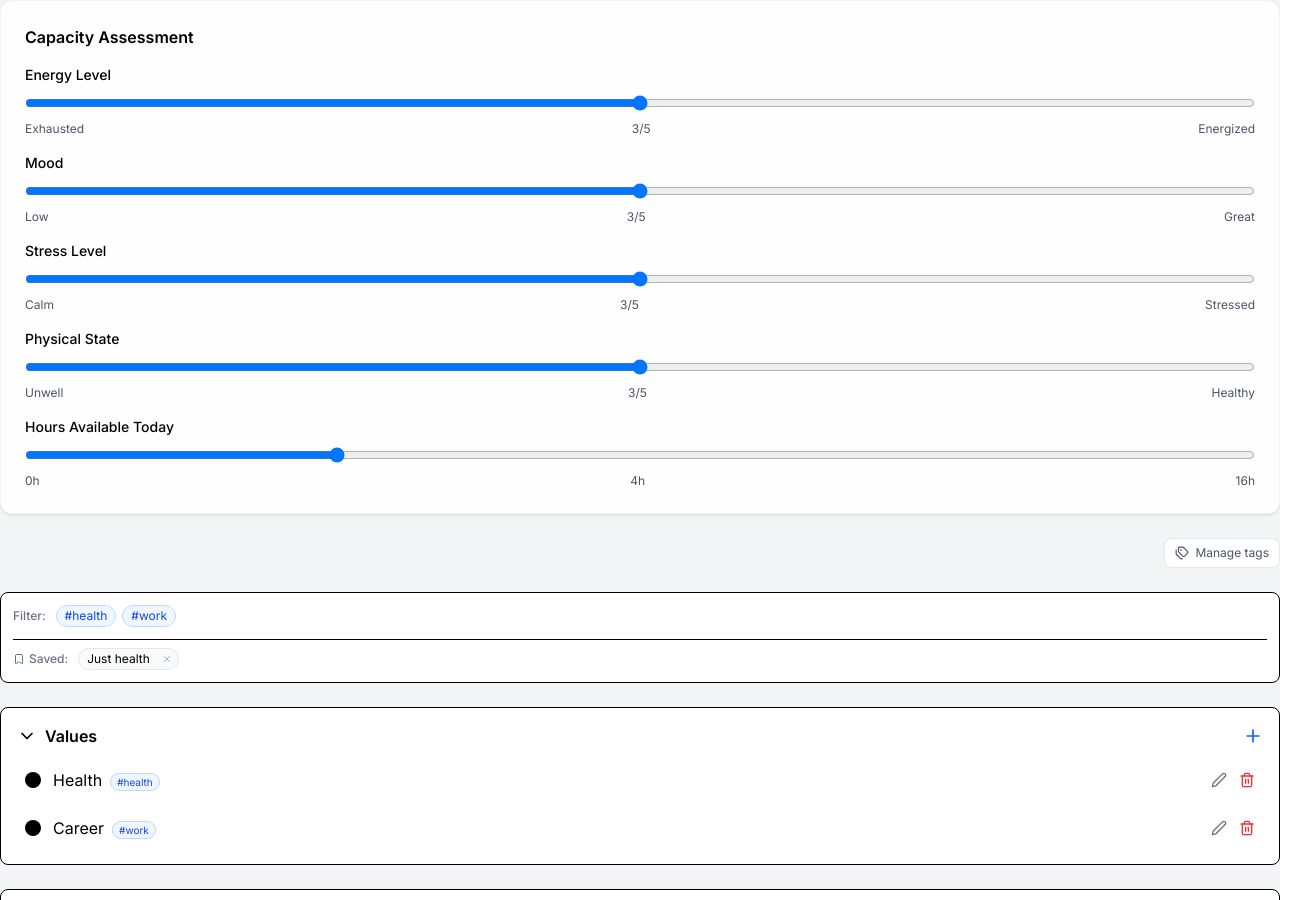
Test case: PlannerDataView tag filtering integration › applies a saved filter when its chip is clicked
Click the button "Just health".
click(118, 659)  # box [79,649,158,669]
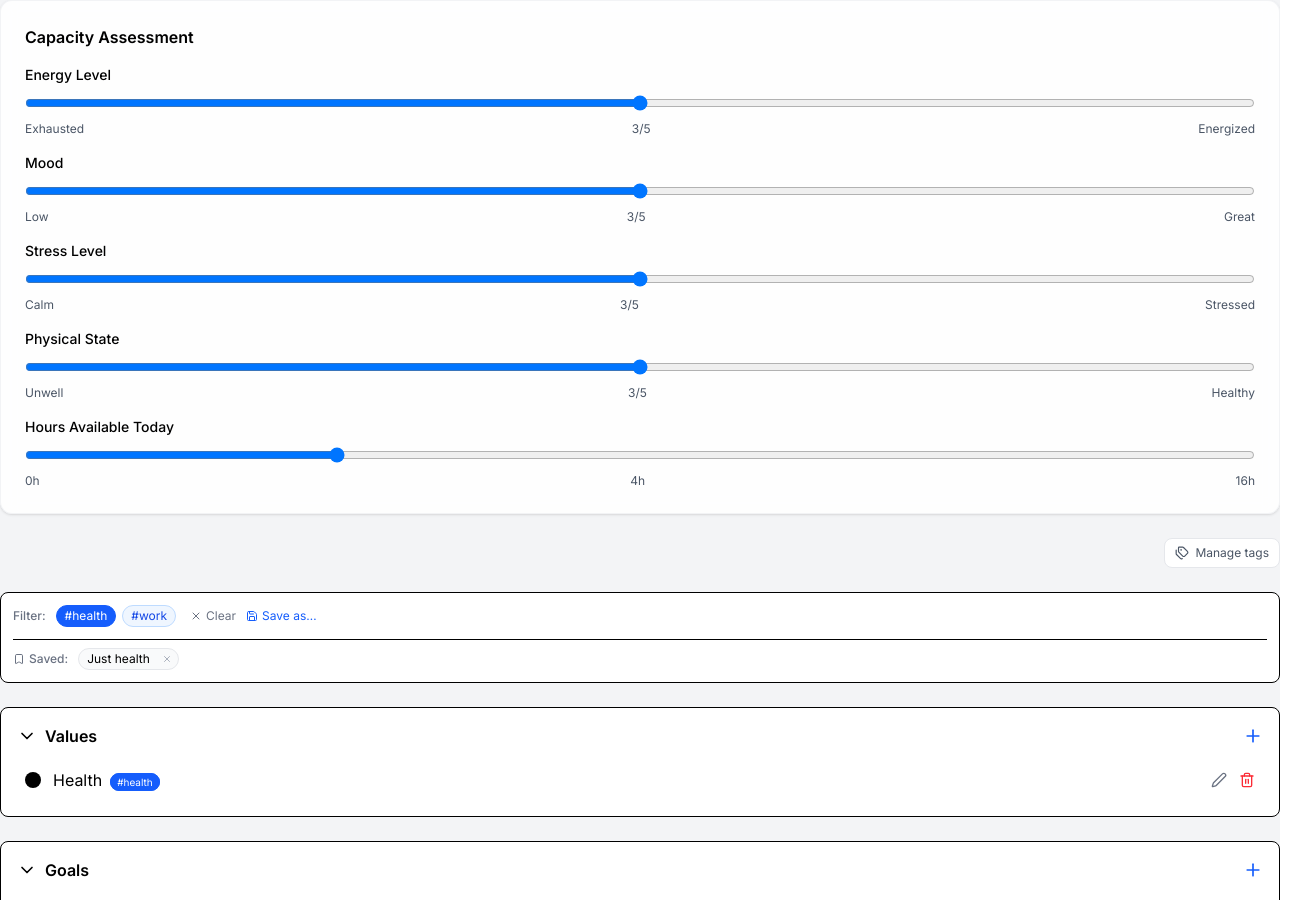
Expected: the text "Health" is shown, [53,768,102,792]
Now the text "Career" is gone
